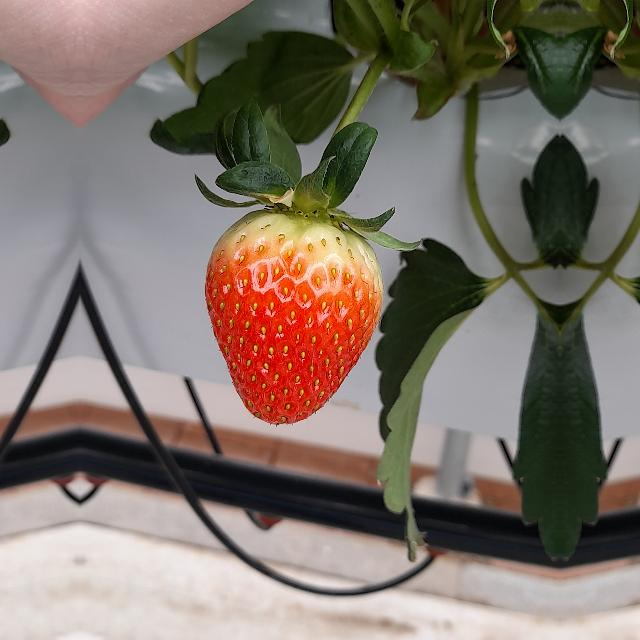Health_100: (204, 208, 383, 424)
